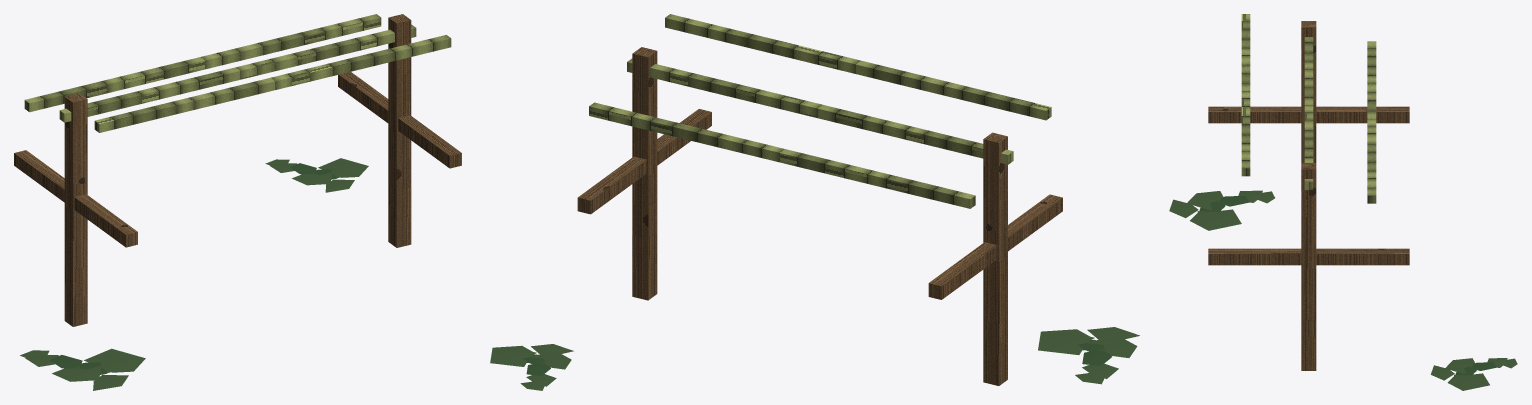
File: drying_rack_01.glb
3 renders of one model, left to right at view 1: azimuth 30°, elevation 25°; view 2: azimuth 150°, elevation 25°; view 3: azimuth 270°, elevation 25°, orthographic. The views are drawn at different scales.
Visible parts, largest first — view 1: drying_rack_01, drying_rack_01_veg_01_moss_a, drying_rack_01_veg_00_moss_a; view 2: drying_rack_01, drying_rack_01_veg_01_moss_a, drying_rack_01_veg_00_moss_a; view 3: drying_rack_01, drying_rack_01_veg_01_moss_a, drying_rack_01_veg_00_moss_a.
Boxes of the visible parts, <box> form: drying_rack_01: <box>14,14,461,326</box>; drying_rack_01_veg_01_moss_a: <box>20,348,145,390</box>; drying_rack_01_veg_00_moss_a: <box>265,158,368,192</box>; drying_rack_01: <box>577,14,1062,385</box>; drying_rack_01_veg_01_moss_a: <box>1038,327,1139,384</box>; drying_rack_01_veg_00_moss_a: <box>490,344,573,390</box>; drying_rack_01: <box>1208,14,1409,370</box>; drying_rack_01_veg_01_moss_a: <box>1169,190,1274,230</box>; drying_rack_01_veg_00_moss_a: <box>1431,358,1517,390</box>.
Size of the model in its own units: 3.76 by 1.8 by 2.77.
3 materials, 3 textured.
